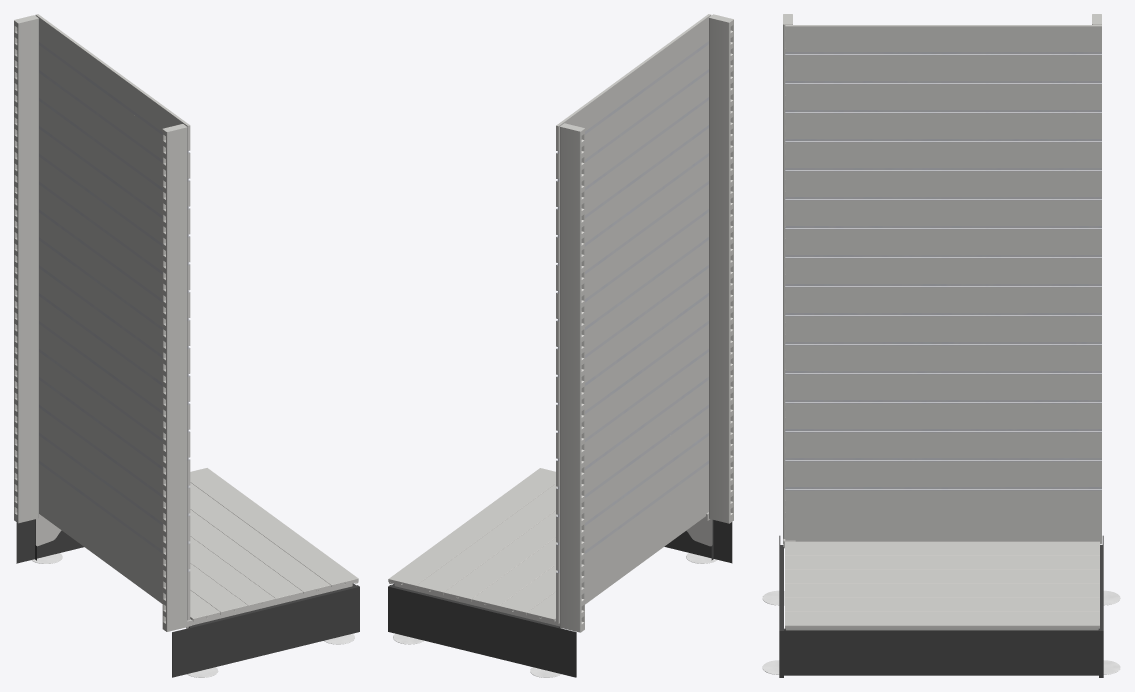
File: ShelvesBase05.fbx
The picture shows the model from 3 angles, left to right: view 1: azimuth 30°, elevation 25°; view 2: azimuth 150°, elevation 25°; view 3: azimuth 270°, elevation 25°; orthographic projection. The views are drawn at different scales.
Visible parts, largest first — view 1: ShelvesBase05; view 2: ShelvesBase05; view 3: ShelvesBase05.
Part boxes in pixels (x1,y1,x2,y2): ShelvesBase05: [14, 14, 359, 677]; ShelvesBase05: [388, 14, 733, 677]; ShelvesBase05: [762, 14, 1120, 677].
Size of what is drawn, in the model's own units: 73.77 by 114 by 200.
Materials: 4 (2 with a texture image).
